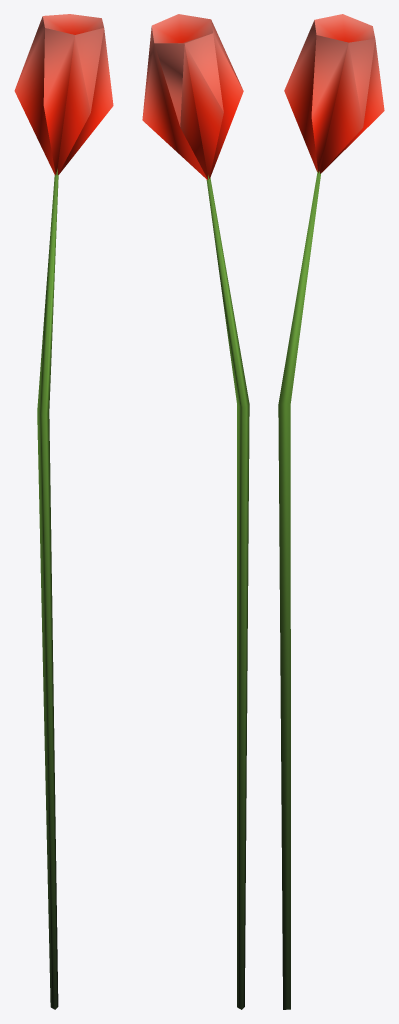
Rendered from Flower_3F.fbx.
3 views of the same model, side by side, from view 1: azimuth 30°, elevation 25°; view 2: azimuth 150°, elevation 25°; view 3: azimuth 330°, elevation 25° (orthographic). The views are drawn at different scales.
Visible parts, largest first — view 1: Flower_3F; view 2: Flower_3F; view 3: Flower_3F.
Boxes of the visible parts, x1,y1,x2,y2 form: Flower_3F: (14,14,113,1009); Flower_3F: (142,14,249,1009); Flower_3F: (278,14,384,1009).
Bounding box in the file's own units: 6.14 × 71.62 × 6.59.
